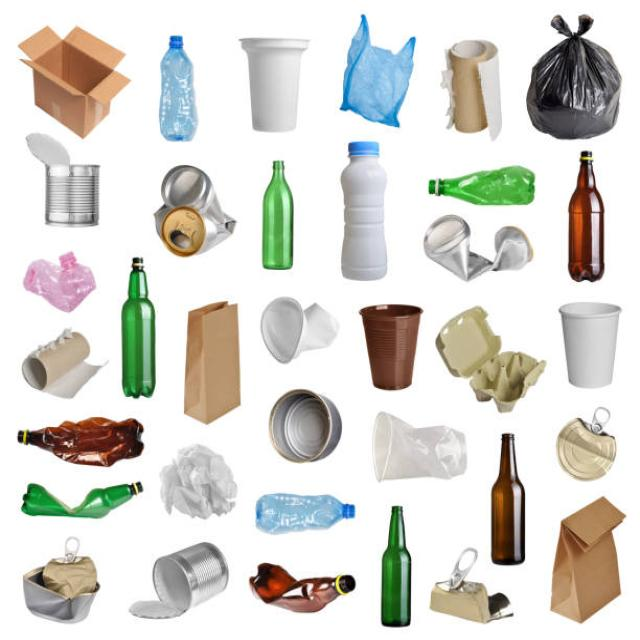cardboard: (8, 26, 148, 124), (542, 498, 637, 630), (181, 299, 244, 427), (438, 31, 509, 137), (27, 322, 105, 395)
metal: (26, 134, 125, 225), (135, 542, 235, 623), (424, 211, 536, 283), (154, 166, 237, 252), (268, 392, 348, 468)
plastic: (16, 425, 142, 527), (345, 18, 419, 137), (156, 446, 246, 520), (256, 279, 335, 357)
